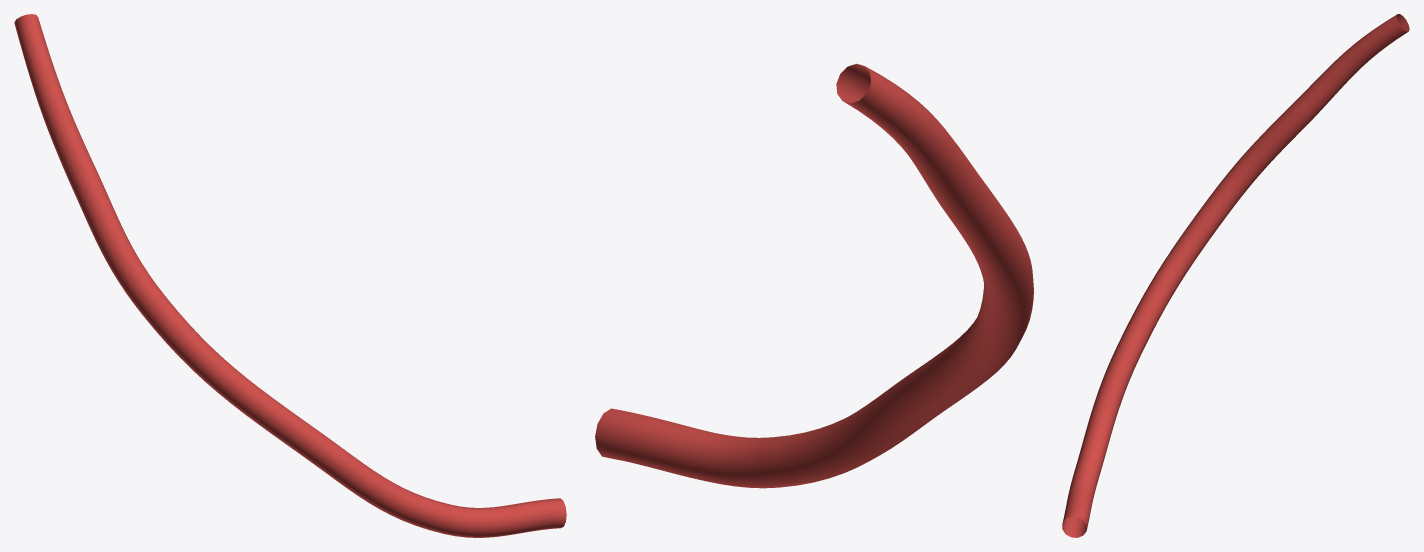
The picture shows the model from 3 angles, left to right: view 1: azimuth 30°, elevation 25°; view 2: azimuth 150°, elevation 25°; view 3: azimuth 270°, elevation 25°; orthographic projection. The views are drawn at different scales.
Parts seen in each view (by area): view 1: 右侧弓形动脉; view 2: 右侧弓形动脉; view 3: 右侧弓形动脉.
Part boxes in pixels (left/top/right/bottom): 右侧弓形动脉: left=14, top=14, right=566, bottom=537; 右侧弓形动脉: left=595, top=63, right=1033, bottom=488; 右侧弓形动脉: left=1062, top=14, right=1409, bottom=537.
Bounding box in the file's own units: 0.0448 × 0.054 × 0.0443.
